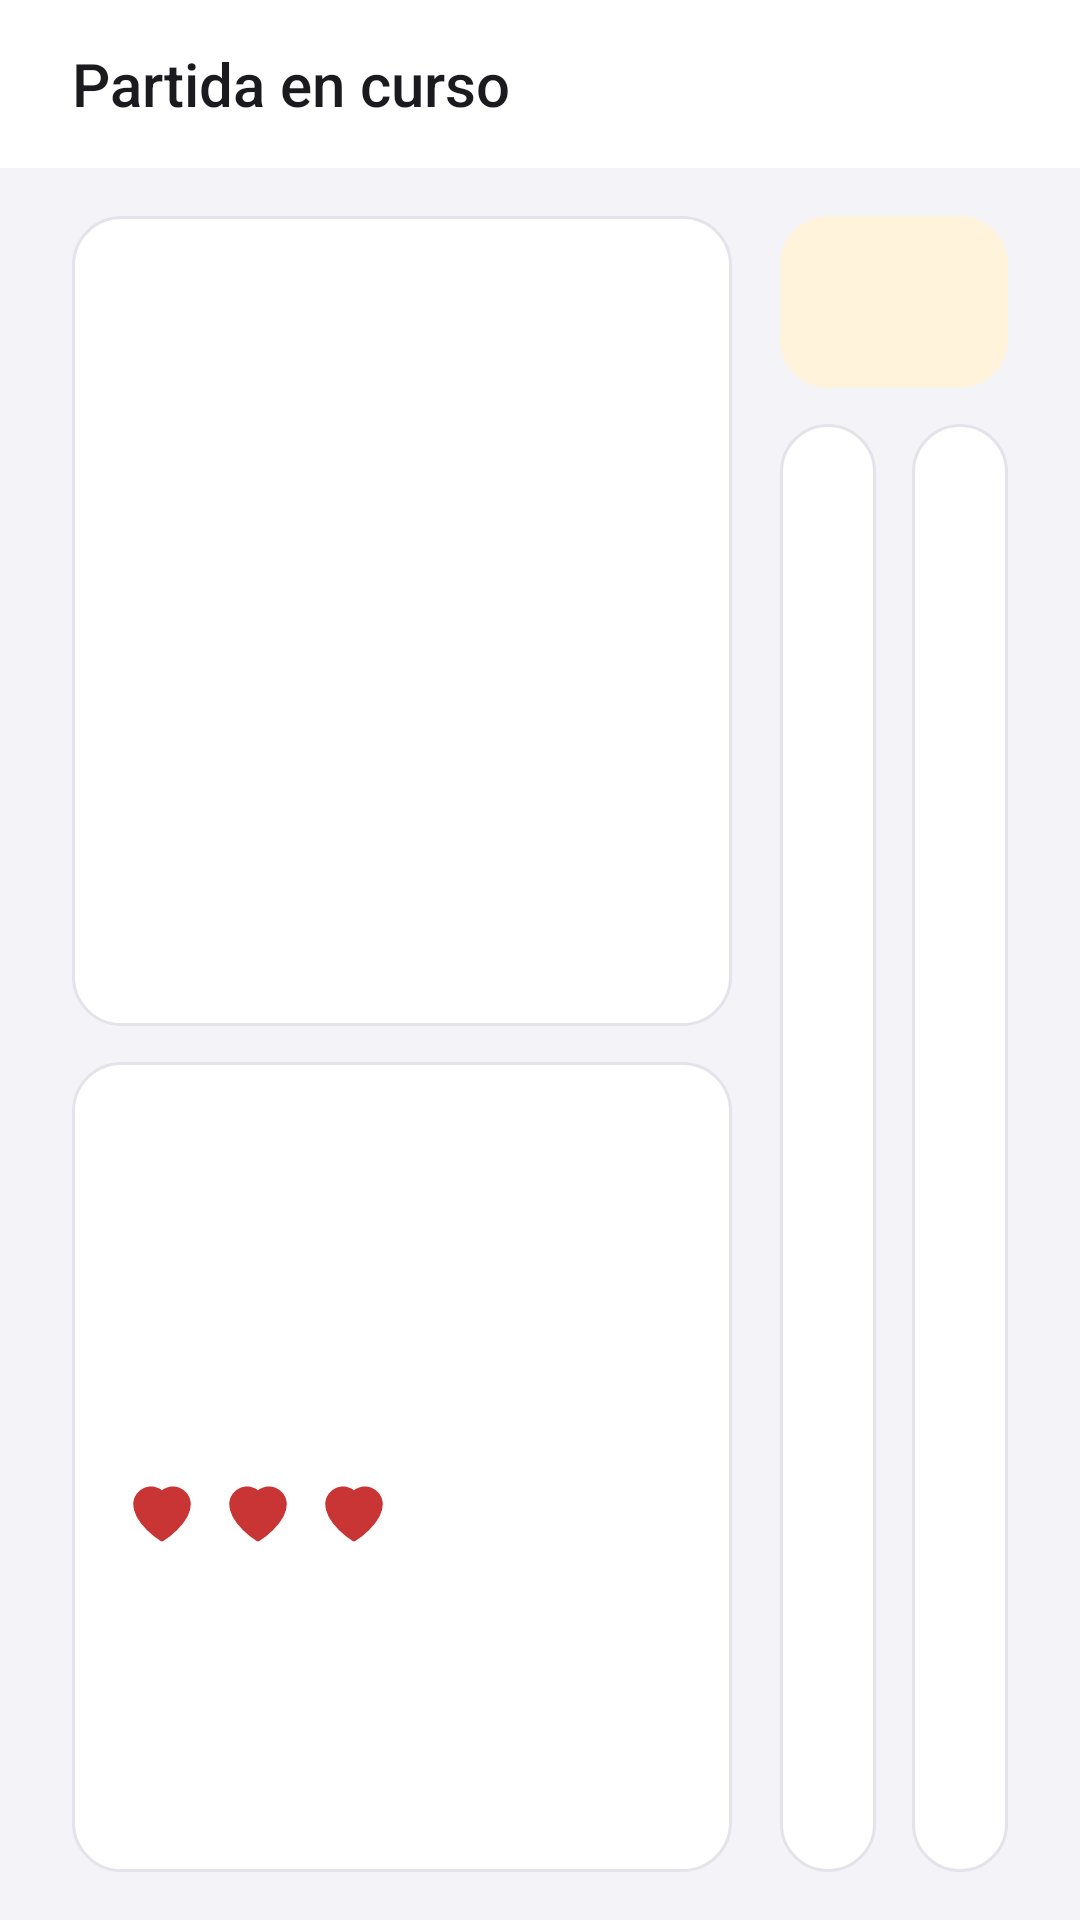

Icons on this 1080px×1920px Android screen, each with its box as [x1=x1, y1=y1, x2=x2, y2=y2]:
corazon lleno: [x1=133, y1=1486, x2=191, y2=1542], [x1=229, y1=1486, x2=287, y2=1542], [x1=325, y1=1486, x2=383, y2=1542]
